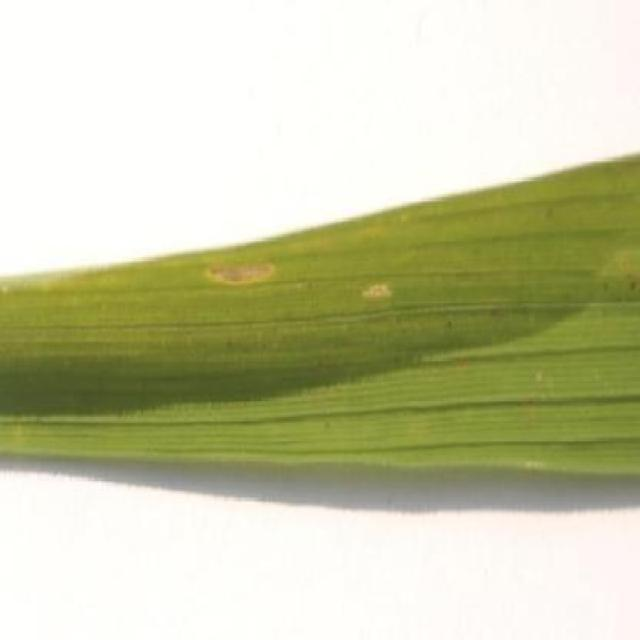Brown_Spot: (0, 40, 640, 389), (178, 226, 290, 331), (346, 232, 445, 338)
